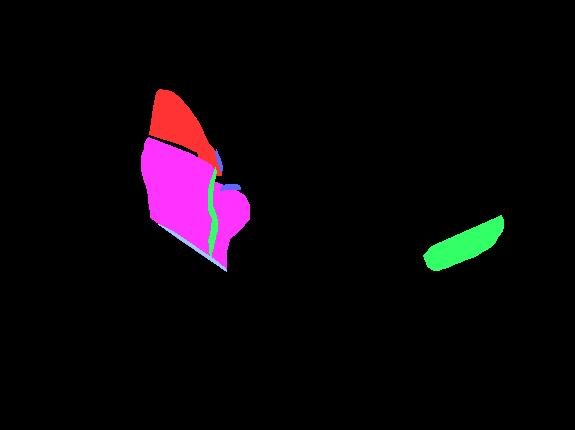Broken part: (423, 215, 503, 270), (208, 167, 217, 258)
Corrosion: (158, 224, 226, 271)
Dent: (141, 137, 215, 260), (211, 181, 249, 271)
Missing part: (149, 89, 215, 158), (197, 138, 221, 175)
Scratch: (186, 230, 199, 245), (190, 211, 206, 222), (215, 149, 222, 171), (220, 184, 240, 190), (203, 180, 208, 203), (161, 205, 166, 227), (167, 209, 172, 227), (170, 182, 175, 199), (174, 201, 186, 208), (155, 172, 168, 178), (169, 176, 182, 181), (185, 234, 194, 239)
